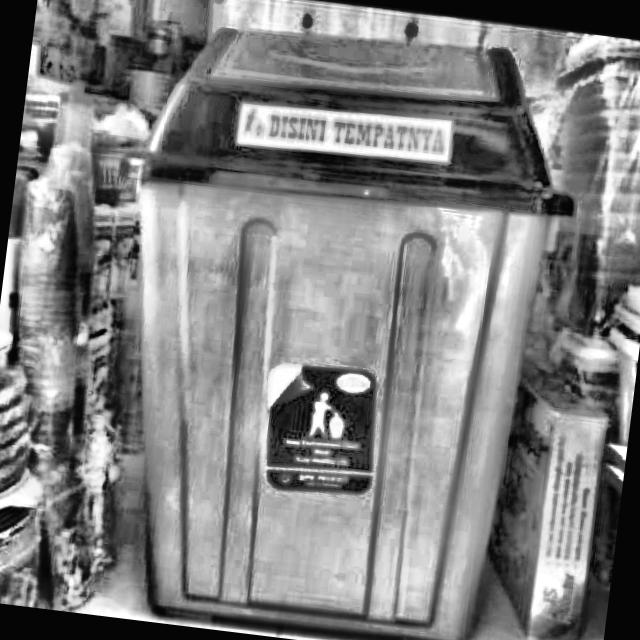Dustbin: (75, 1, 600, 640)
